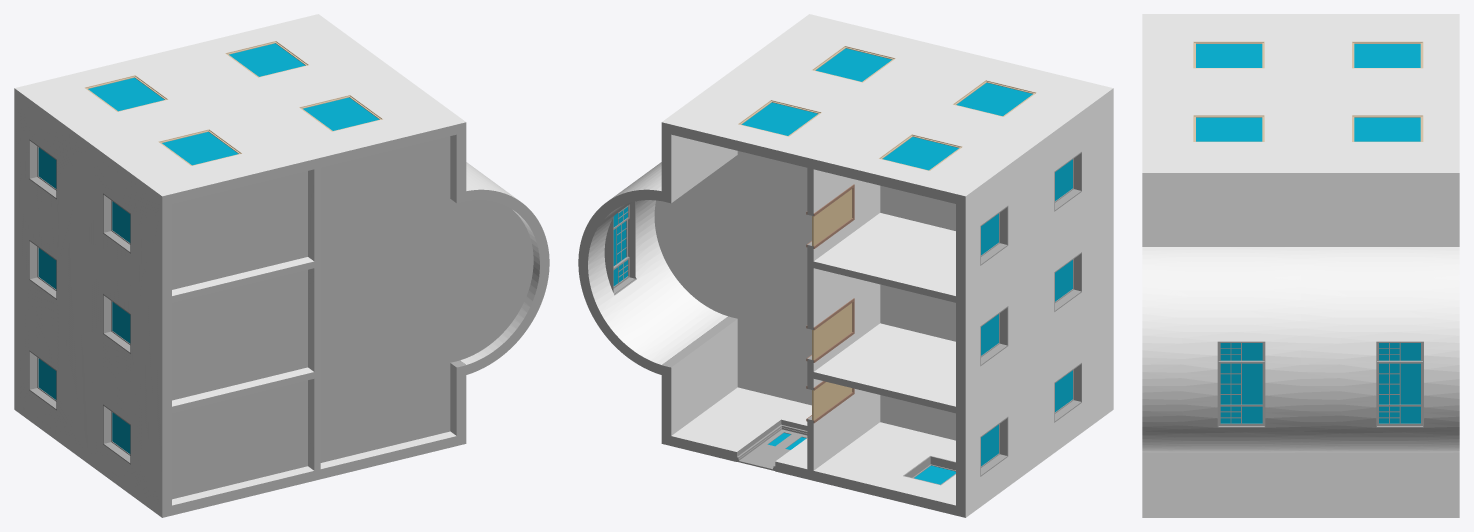
Rendered from house.gltf.
3 renders of one model, left to right at view 1: azimuth 30°, elevation 25°; view 2: azimuth 150°, elevation 25°; view 3: azimuth 270°, elevation 25°, orthographic. The views are drawn at different scales.
Visible parts, largest first — view 1: Ceiling 天花板 <353456 光面>, Wall 墙 <353079 外墙>, Wall 墙 <353082 外墙>, Wall 墙 <339622 外墙>, Wall 墙 <339828 外墙>, Ceiling 天花板 <353474 光面>, Ceiling 天花板 <353466 光面>, Ceiling 天花板 <353482 光面>, FamilySymbol 窗 <349549 1600 x 1800mm> (×4), FamilySymbol 窗 <348924 1200 x 1500mm> (×6), Wall 墙 <353081 外墙>, Wall 墙 <353086 外墙> (+6 smaller); view 2: Ceiling 天花板 <353414 光面>, Wall 墙 <339622 外墙>, Wall 墙 <339828 外墙>, Wall 墙 <353079 外墙>, Wall 墙 <353082 外墙>, Wall 墙 <339761 外墙>, Wall 墙 <340984 外墙>, Wall 墙 <339953 内墙>, Wall 墙 <340108 内墙>, Wall 墙 <340151 内墙>, FamilySymbol 窗 <348924 1200 x 1500mm> (×7), FamilySymbol 窗 <349549 1600 x 1800mm> (×4) (+10 smaller); view 3: Wall 墙 <340984 外墙>, Wall 墙 <353086 外墙>, Wall 墙 <353079 外墙>, Wall 墙 <339622 外墙>, Wall 墙 <341193 外墙>, Wall 墙 <353087 外墙>, Wall 墙 <339706 外墙>, Wall 墙 <353080 外墙>, FamilySymbol 窗 <351690 2400 x 1200mm> (×2), FamilySymbol 窗 <349549 1600 x 1800mm> (×4).
Part boxes in pixels (x1=…): Ceiling 天花板 <353456 光面>: x1=320, y1=136, x2=533, y2=462; Wall 墙 <353079 外墙>: x1=88, y1=68, x2=466, y2=206; Wall 墙 <353082 外墙>: x1=88, y1=152, x2=171, y2=507; Wall 墙 <339622 外墙>: x1=14, y1=14, x2=391, y2=151; Wall 墙 <339828 外墙>: x1=14, y1=98, x2=88, y2=453; Ceiling 天花板 <353474 光面>: x1=172, y1=270, x2=307, y2=400; Ceiling 天花板 <353466 光面>: x1=172, y1=171, x2=307, y2=289; Ceiling 天花板 <353482 光面>: x1=172, y1=380, x2=307, y2=499; FamilySymbol 窗 <349549 1600 x 1800mm> (×4): x1=84, y1=41, x2=382, y2=165; FamilySymbol 窗 <348924 1200 x 1500mm> (×6): x1=29, y1=139, x2=130, y2=464; Wall 墙 <353081 外墙>: x1=88, y1=431, x2=456, y2=517; Wall 墙 <353086 外墙>: x1=460, y1=162, x2=549, y2=374; Ceiling 天花板 <353414 光面>: x1=654, y1=151, x2=811, y2=405; Wall 墙 <339622 外墙>: x1=661, y1=68, x2=1039, y2=206; Wall 墙 <339828 外墙>: x1=956, y1=152, x2=1039, y2=507; Wall 墙 <353079 外墙>: x1=736, y1=14, x2=1113, y2=151; Wall 墙 <353082 外墙>: x1=1039, y1=98, x2=1113, y2=453; Wall 墙 <339761 外墙>: x1=671, y1=387, x2=1039, y2=517; Wall 墙 <340984 外墙>: x1=578, y1=162, x2=727, y2=374; Wall 墙 <339953 内墙>: x1=807, y1=168, x2=880, y2=470; Wall 墙 <340108 内墙>: x1=813, y1=323, x2=955, y2=413; Wall 墙 <340151 内墙>: x1=813, y1=213, x2=955, y2=302; FamilySymbol 窗 <348924 1200 x 1500mm> (×7): x1=903, y1=152, x2=1081, y2=485; FamilySymbol 窗 <349549 1600 x 1800mm> (×4): x1=738, y1=46, x2=1036, y2=170; Wall 墙 <340984 外墙>: x1=1301, y1=247, x2=1459, y2=452; Wall 墙 <353086 外墙>: x1=1142, y1=247, x2=1300, y2=452; Wall 墙 <353079 外墙>: x1=1142, y1=14, x2=1300, y2=183; Wall 墙 <339622 外墙>: x1=1301, y1=14, x2=1459, y2=183; Wall 墙 <341193 外墙>: x1=1301, y1=452, x2=1459, y2=517; Wall 墙 <353087 外墙>: x1=1142, y1=452, x2=1300, y2=517; Wall 墙 <339706 外墙>: x1=1301, y1=184, x2=1459, y2=246; Wall 墙 <353080 外墙>: x1=1142, y1=184, x2=1300, y2=246; FamilySymbol 窗 <351690 2400 x 1200mm> (×2): x1=1217, y1=341, x2=1423, y2=427; FamilySymbol 窗 <349549 1600 x 1800mm> (×4): x1=1193, y1=41, x2=1423, y2=141.
Bounding box in the file's own units: 12099 × 9600 × 8000.
